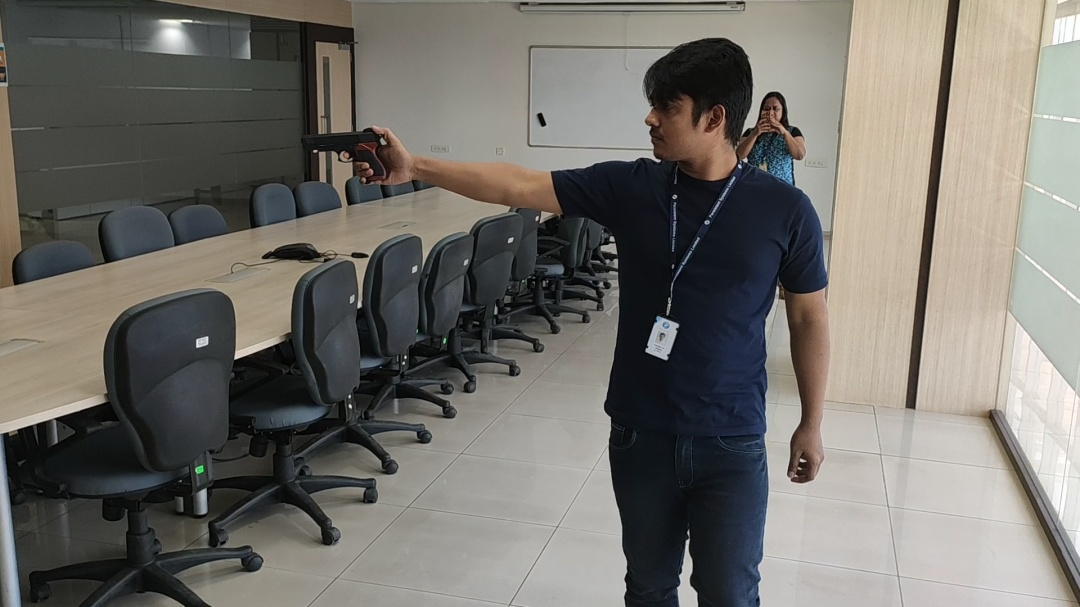gun: (299, 127, 397, 185)
